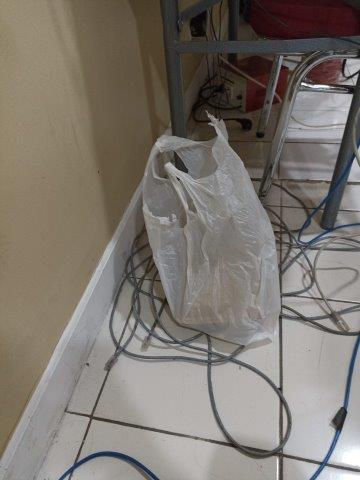plastik: (142, 112, 281, 343)
